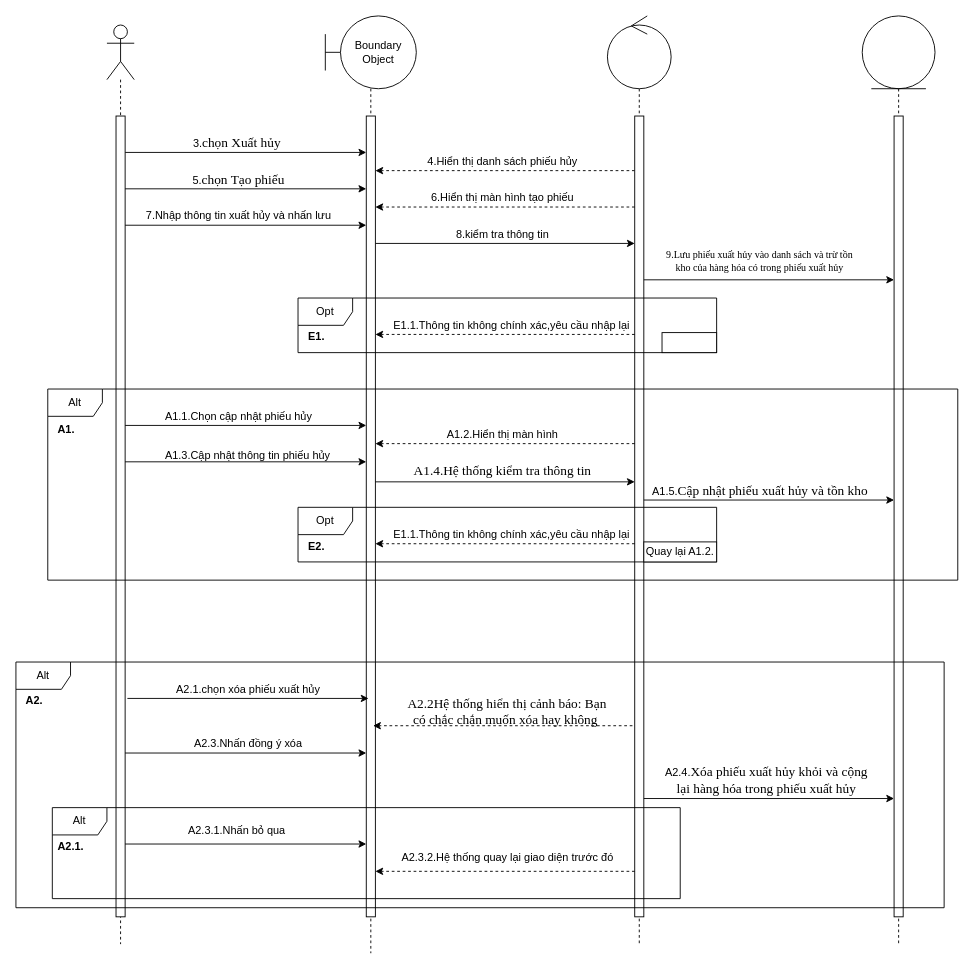
This 974x970 diagram has some shape labels left out. Each missing label, with the centre of its shape:
"Actor" belongs at (120,52).
"Control Object" belongs at (639,52).
"Entity Object" belongs at (898,52).
"Quay lại 6." belongs at (689,342).
